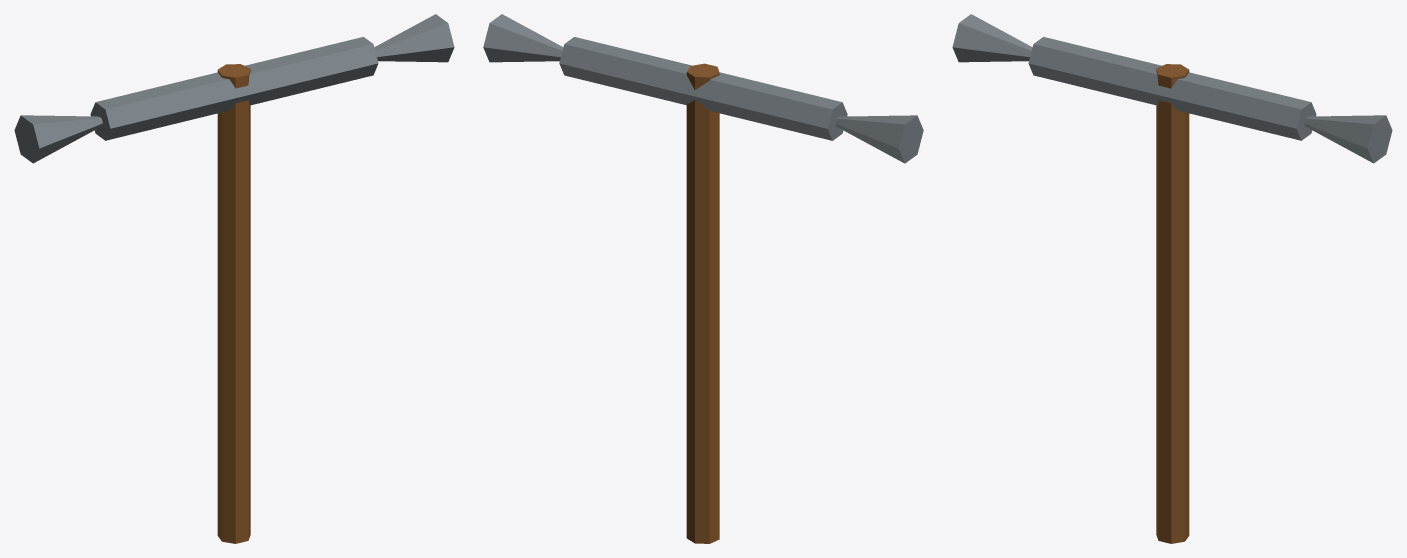
File: pieza-villager-pick-GaAGWYkK.glb
3 views of the same model, side by side, from view 1: azimuth 30°, elevation 25°; view 2: azimuth 150°, elevation 25°; view 3: azimuth 330°, elevation 25° (orthographic).
Parts seen in each view (by area): view 1: prop_pick; view 2: prop_pick; view 3: prop_pick.
Boxes of the visible parts, x1=… form: prop_pick: x1=14, y1=14, x2=454, y2=543; prop_pick: x1=483, y1=14, x2=923, y2=543; prop_pick: x1=952, y1=14, x2=1392, y2=543.
Bounding box in the file's own units: 4.8 × 5.17 × 0.5.
